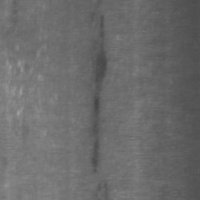inclusion: (85, 12, 117, 109), (86, 90, 108, 177)
